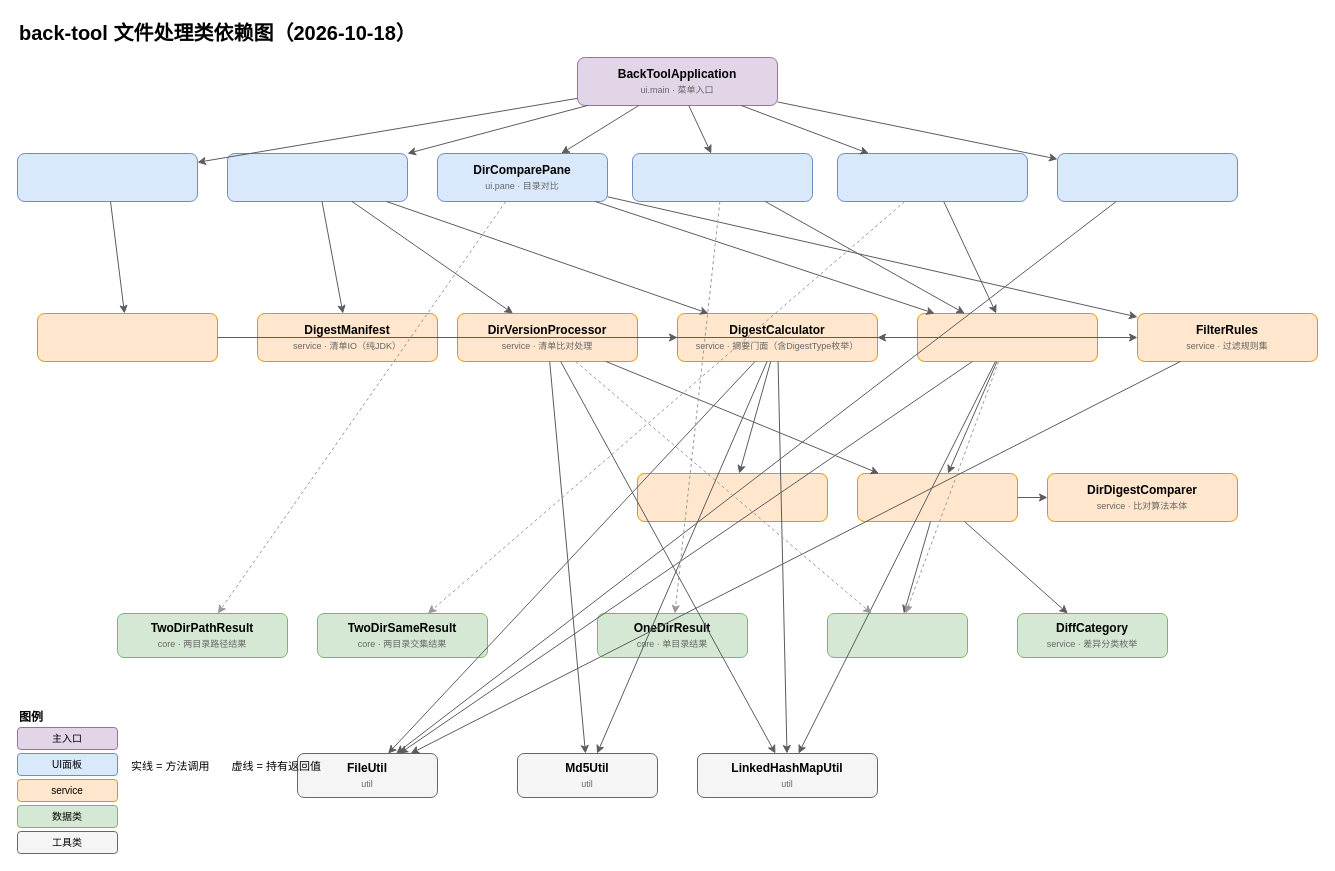
Some shapes in this 1335 by 871 pixel diagram are drawn without their labels. Each missing label, with the centre of its shape:
CompareQuery service · 流式比对API: the point at 937,497
DeleteEmptyDirPane ui.pane · 清空空文件夹: the point at 1147,177
DiffResult service · 比对结果: the point at 897,635
DigestWalker service · 遍历引擎（包私有）: the point at 732,497
DirCompareUtil service.core · 查重比对: the point at 1007,337
DirCrossDuplicatePane ui.pane · 两目录互查重复: the point at 932,177
DirDuplicatePane ui.pane · 单目录重复文件: the point at 722,177
DirVersionCheckPane ui.pane · 校验资产清单: the point at 317,177
DirVersionGenPane ui.pane · 生成资产清单: the point at 107,177
FilteredFileWalker service · 目录遍历: the point at 127,337
